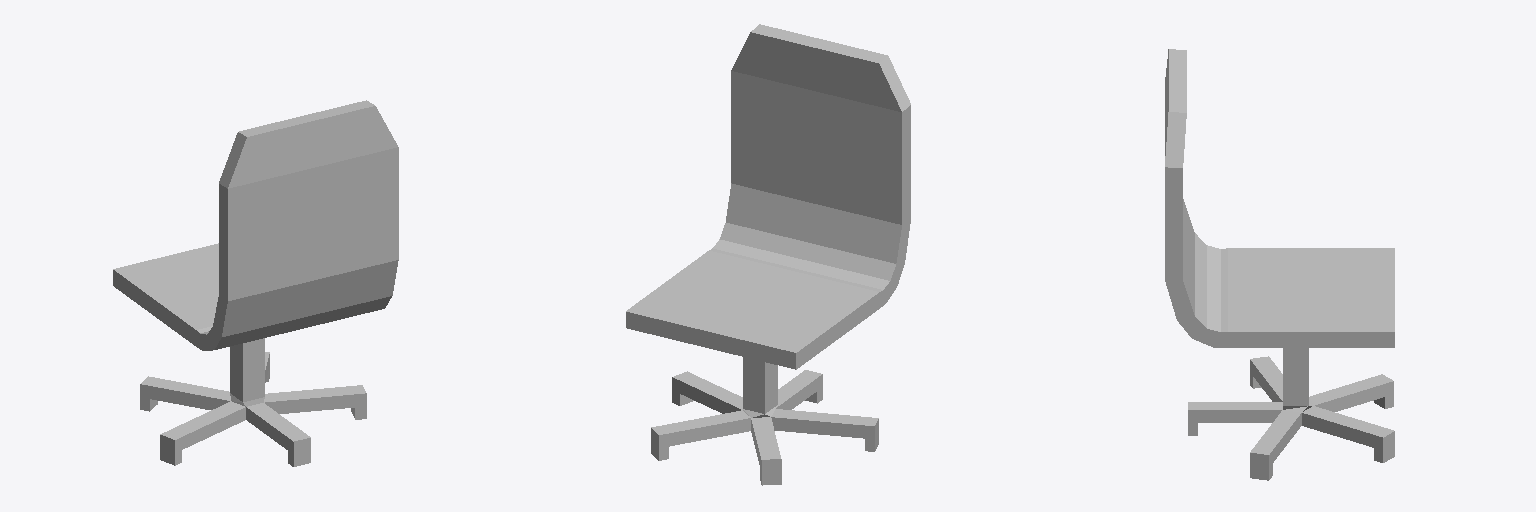
Rendered from chair.obj.
3 views of the same model, side by side, from view 1: azimuth 30°, elevation 25°; view 2: azimuth 150°, elevation 25°; view 3: azimuth 270°, elevation 25° (orthographic).
Parts seen in each view (by area): view 1: Cube; view 2: Cube; view 3: Cube.
Boxes of the visible parts, x1=… form: Cube: x1=113, y1=100, x2=398, y2=466; Cube: x1=626, y1=24, x2=910, y2=485; Cube: x1=1165, y1=49, x2=1394, y2=480.
Bounding box in the file's own units: 9.4 × 15.57 × 9.27.